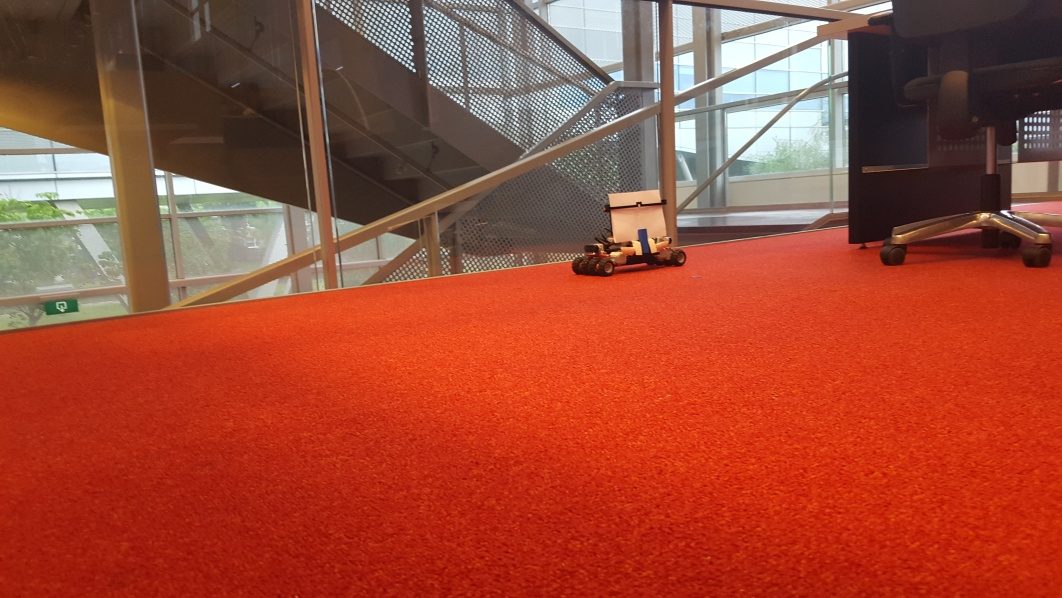car: (570, 188, 690, 278)
